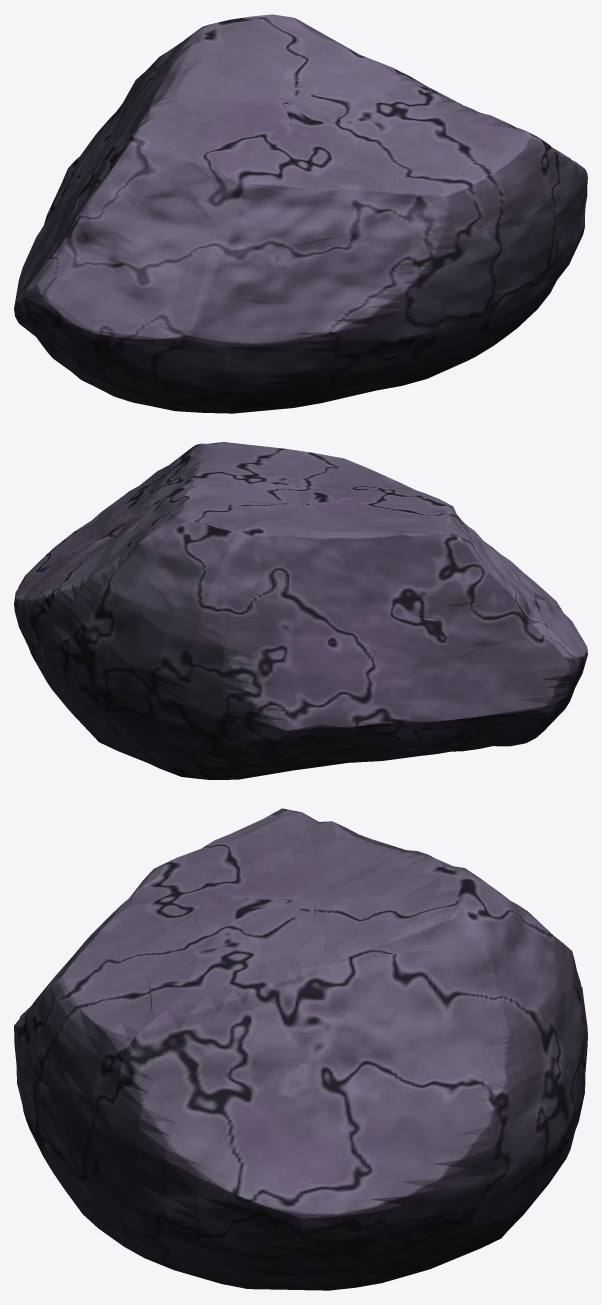
File: rocha_c_v01.glb
3 views of the same model, one above another, from view 1: azimuth 30°, elevation 25°; view 2: azimuth 150°, elevation 25°; view 3: azimuth 270°, elevation 25° (orthographic). The views are drawn at different scales.
Visible parts, largest first — view 1: rocha_c; view 2: rocha_c; view 3: rocha_c.
Boxes of the visible parts, box(x1,y1,x2,y2) form: rocha_c: box(14, 14, 587, 413); rocha_c: box(14, 442, 587, 779); rocha_c: box(14, 808, 587, 1290).
Bounding box in the file's own units: 2.1 × 0.8894 × 1.58.
Materials: 1 (1 with a texture image).
